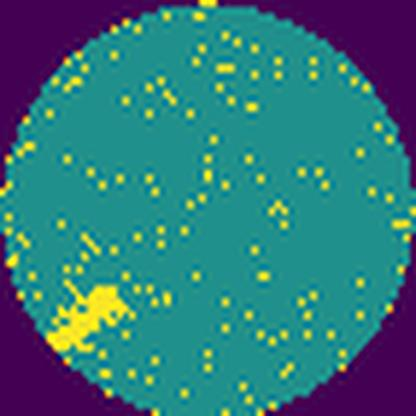Loc: (41, 283, 138, 356)
